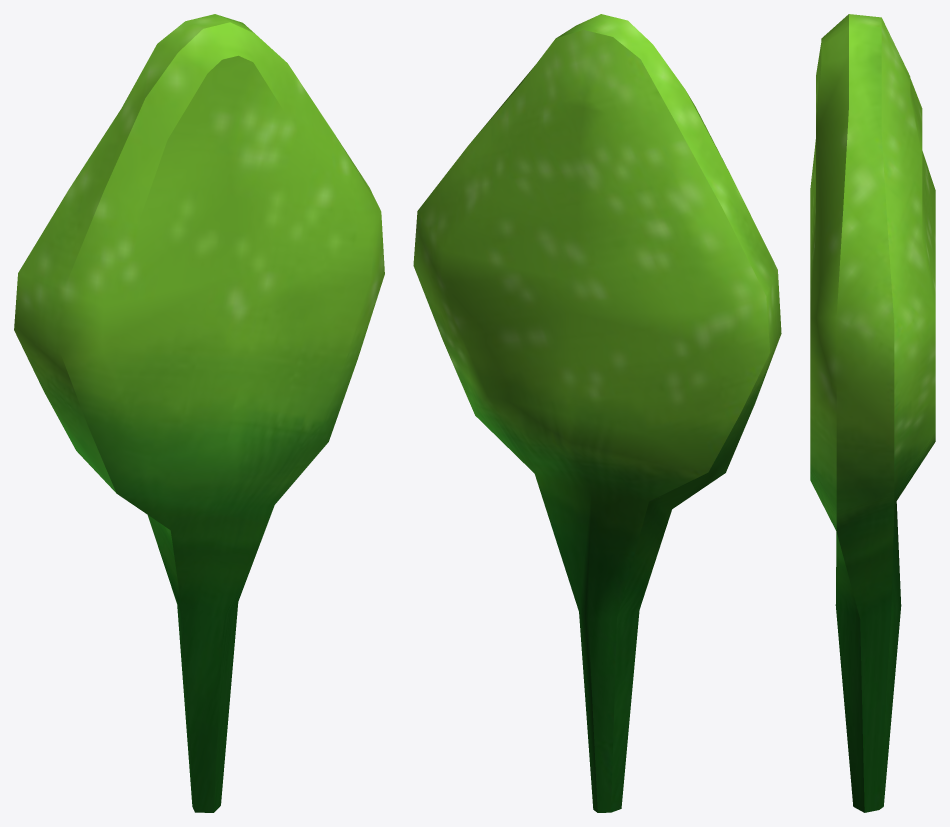
The model's file is Plant C.fbx.
The picture shows the model from 3 angles, left to right: view 1: azimuth 30°, elevation 25°; view 2: azimuth 150°, elevation 25°; view 3: azimuth 270°, elevation 25°; orthographic projection.
Parts seen in each view (by area): view 1: Plant_C; view 2: Plant_C; view 3: Plant_C.
Part boxes in pixels (bbox=[...]): Plant_C: bbox=[14, 14, 384, 812]; Plant_C: bbox=[413, 14, 781, 812]; Plant_C: bbox=[810, 14, 935, 812].
Bounding box in the file's own units: 1666 × 3495 × 505.
Materials: 1 (1 with a texture image).
